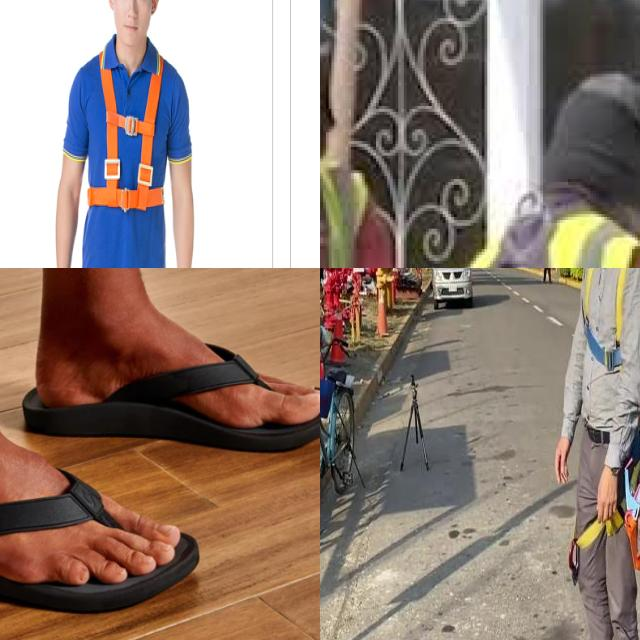Harness: (85, 37, 168, 268), (569, 434, 640, 584), (584, 268, 628, 372)
No_Glasses: (115, 0, 151, 8)
Sandals: (21, 313, 320, 456), (0, 465, 198, 615)
